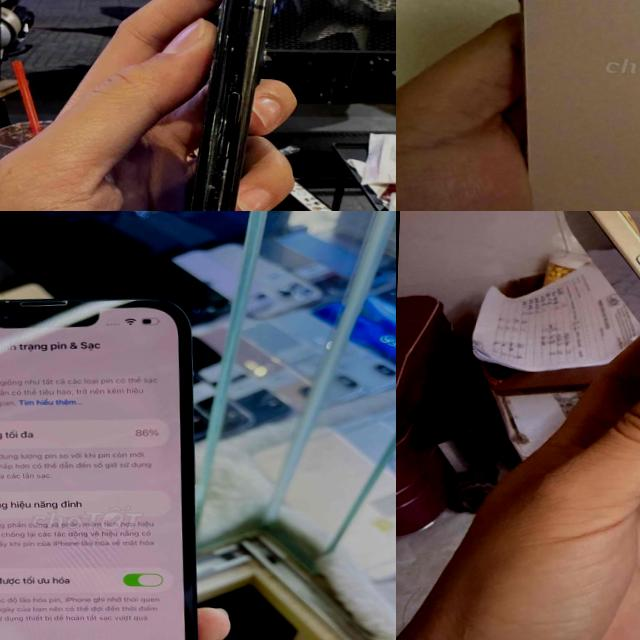gen_11: (145, 0, 284, 211)
gen_12_13: (0, 284, 225, 640)
gen_15: (527, 211, 640, 575)
gen_16: (485, 0, 640, 211)
scratch: (201, 128, 243, 211), (219, 1, 267, 65)
